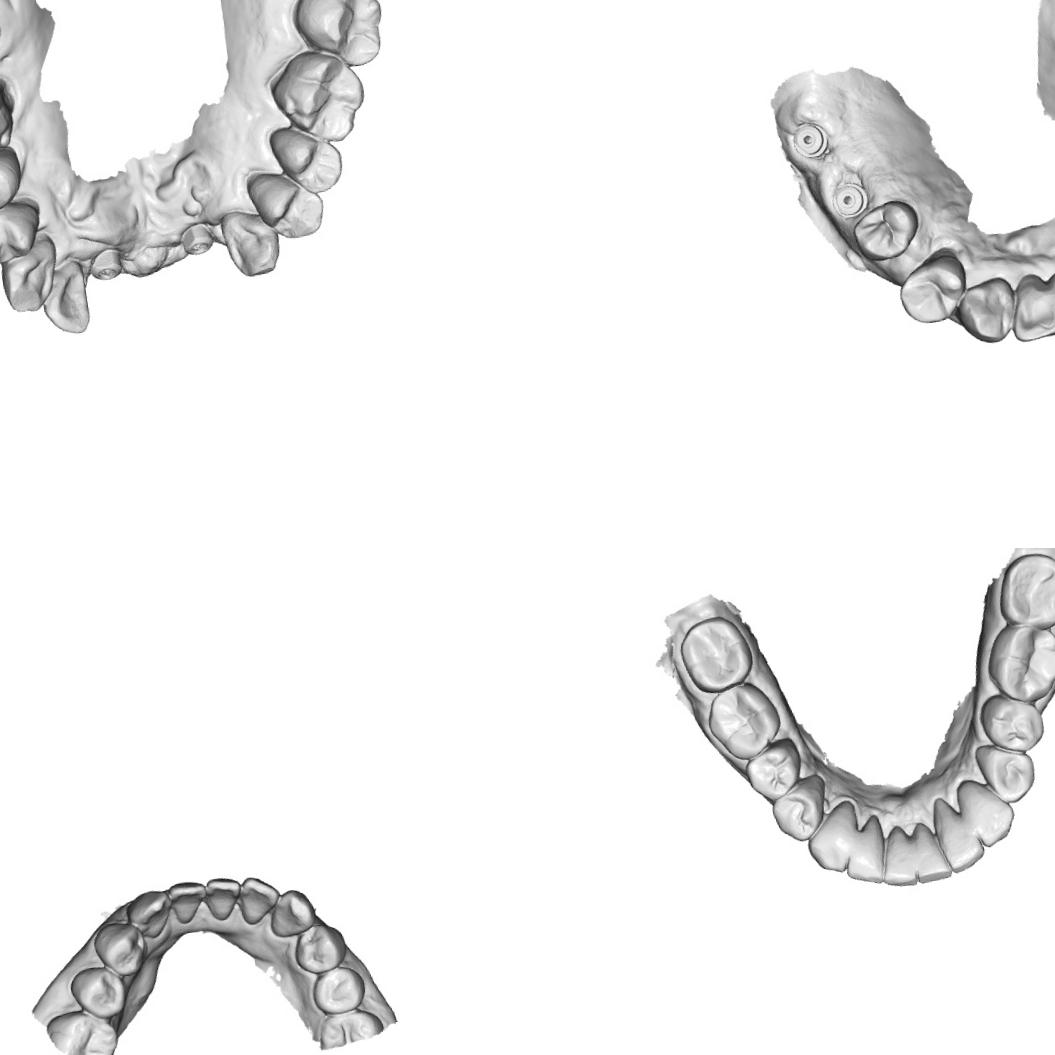canine: (952, 772, 1018, 851), (801, 798, 865, 878), (218, 208, 285, 282), (952, 274, 1020, 346), (0, 242, 61, 319), (265, 885, 319, 941), (124, 886, 176, 944)
implant: (786, 117, 832, 163), (828, 179, 872, 221), (89, 242, 127, 282), (177, 218, 213, 252)
incisor: (34, 255, 99, 340), (931, 800, 987, 876), (838, 812, 890, 889), (1003, 274, 1055, 345), (908, 819, 954, 885), (875, 823, 919, 891), (235, 873, 284, 928), (199, 871, 244, 926), (167, 878, 210, 926)
molar: (264, 41, 372, 153), (286, 0, 392, 78), (702, 676, 786, 766), (674, 611, 757, 698), (981, 617, 1055, 708), (992, 548, 1055, 635)
premolar: (244, 162, 331, 249), (265, 117, 347, 201), (894, 251, 973, 329), (846, 196, 924, 266), (977, 688, 1048, 758), (768, 772, 833, 845), (972, 737, 1038, 808), (740, 735, 806, 804), (67, 961, 130, 1023), (89, 917, 148, 981), (0, 197, 50, 271), (289, 920, 352, 978), (310, 964, 368, 1018), (0, 149, 32, 226)
